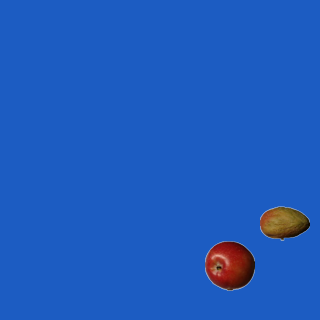Apple Braeburn: (204, 240, 254, 290)
Papaya: (259, 198, 309, 248)
